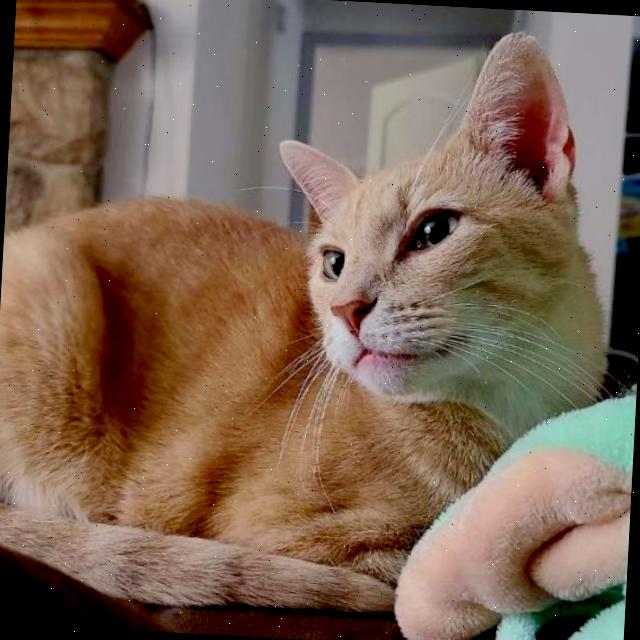american_shorthair_cat: (234, 6, 637, 448)
